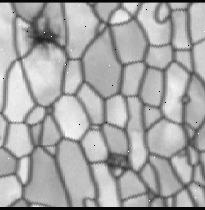good_void: (17, 13, 67, 56), (99, 149, 129, 175)
